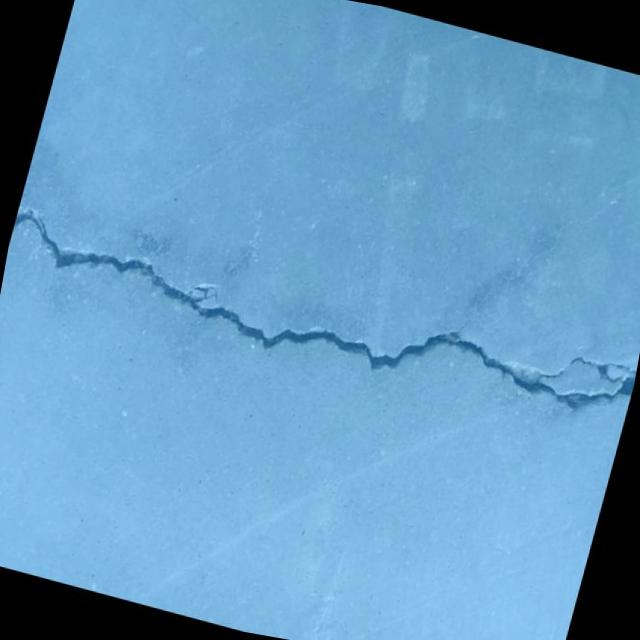crack: (0, 197, 640, 444)
